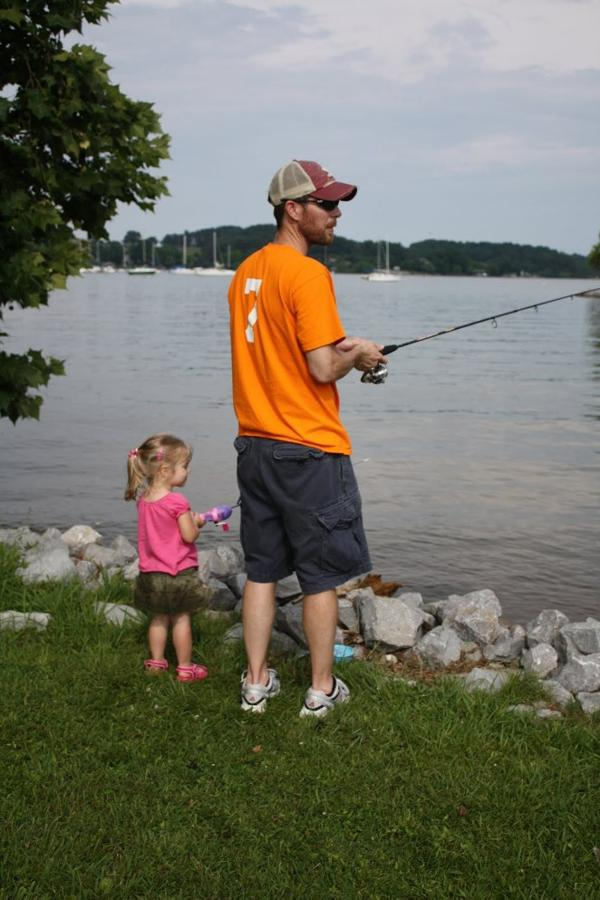person: (227, 162, 388, 722)
